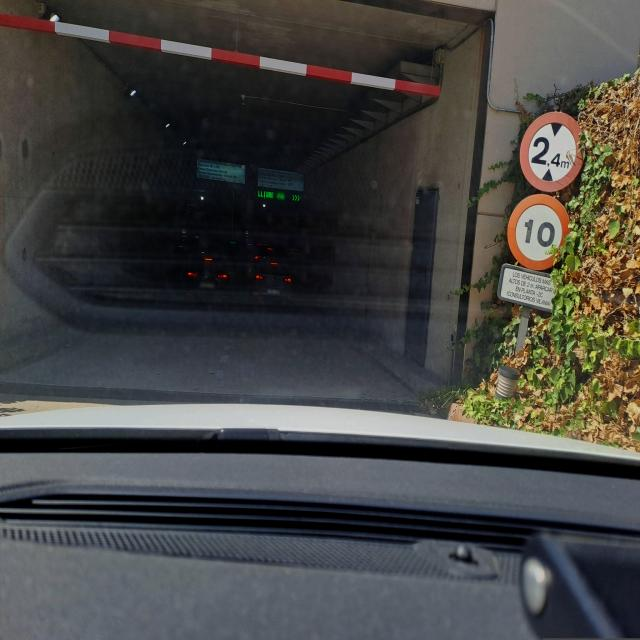car: (249, 257, 294, 309)
